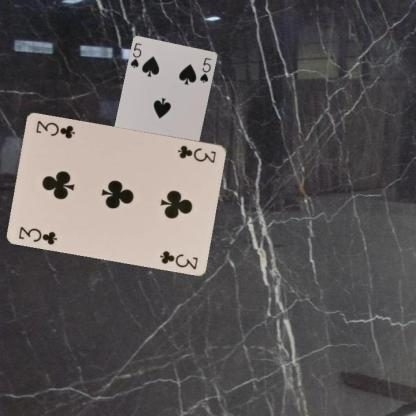3c: (175, 142, 218, 164), (16, 224, 59, 246)
5s: (128, 40, 142, 70)
